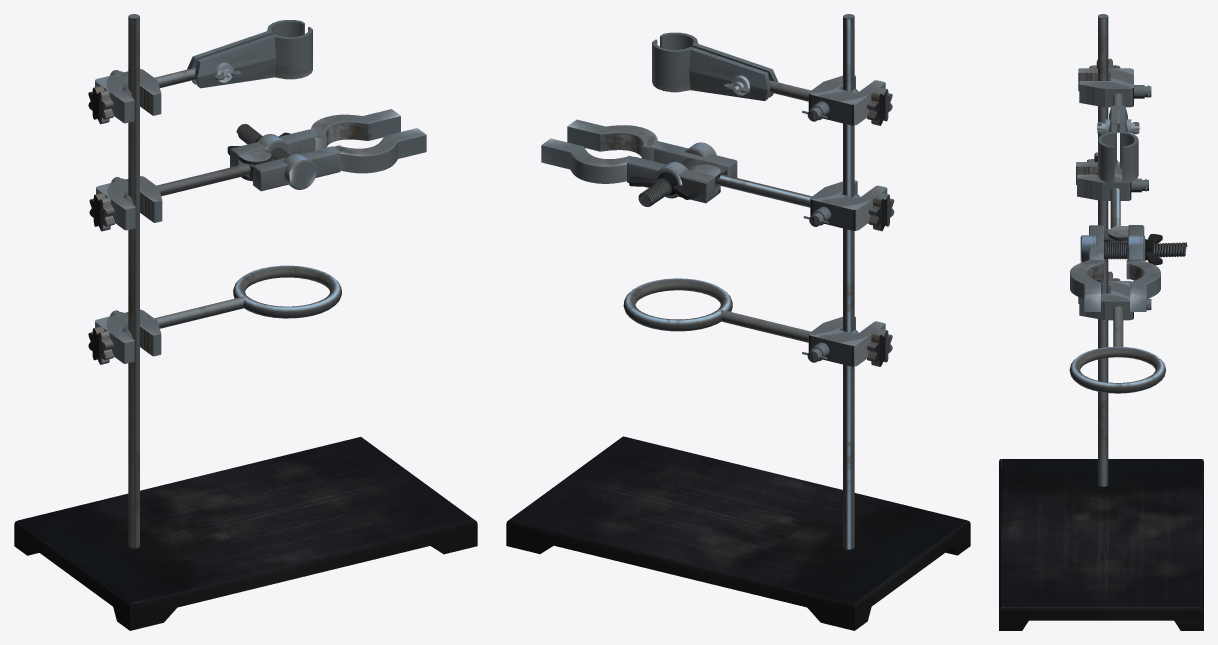
The model's file is chemical_ Hob machine.FBX.
The picture shows the model from 3 angles, left to right: view 1: azimuth 30°, elevation 25°; view 2: azimuth 150°, elevation 25°; view 3: azimuth 270°, elevation 25°; orthographic projection. The views are drawn at different scales.
Parts seen in each view (by area): view 1: chemical_ Hob machine; view 2: chemical_ Hob machine; view 3: chemical_ Hob machine.
Boxes of the visible parts, box(x1,y1,x2,y2) form: chemical_ Hob machine: box(14, 14, 477, 630); chemical_ Hob machine: box(506, 14, 970, 630); chemical_ Hob machine: box(999, 14, 1203, 630).
Bounding box in the file's own units: 33.16 × 50.71 × 19.13.
1 material, 1 textured.
